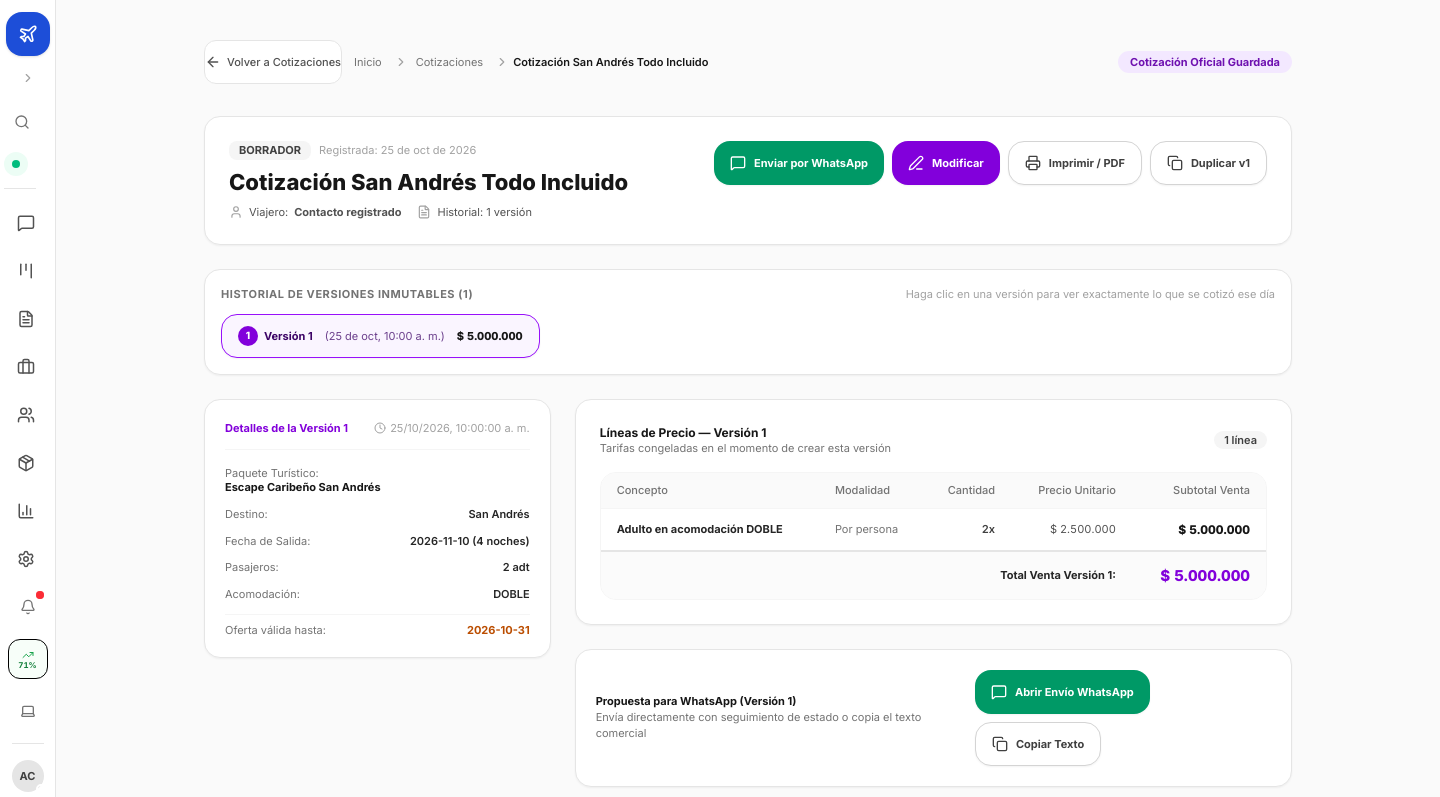
Test: PaginaCotizacionGuardada (Detalle T-107) › duplica la versión actual creando la versión 2 al hacer clic en Duplicar versión
Click the button with test id "btn-duplicar-version": [1208, 163] box [1150,141,1267,185]
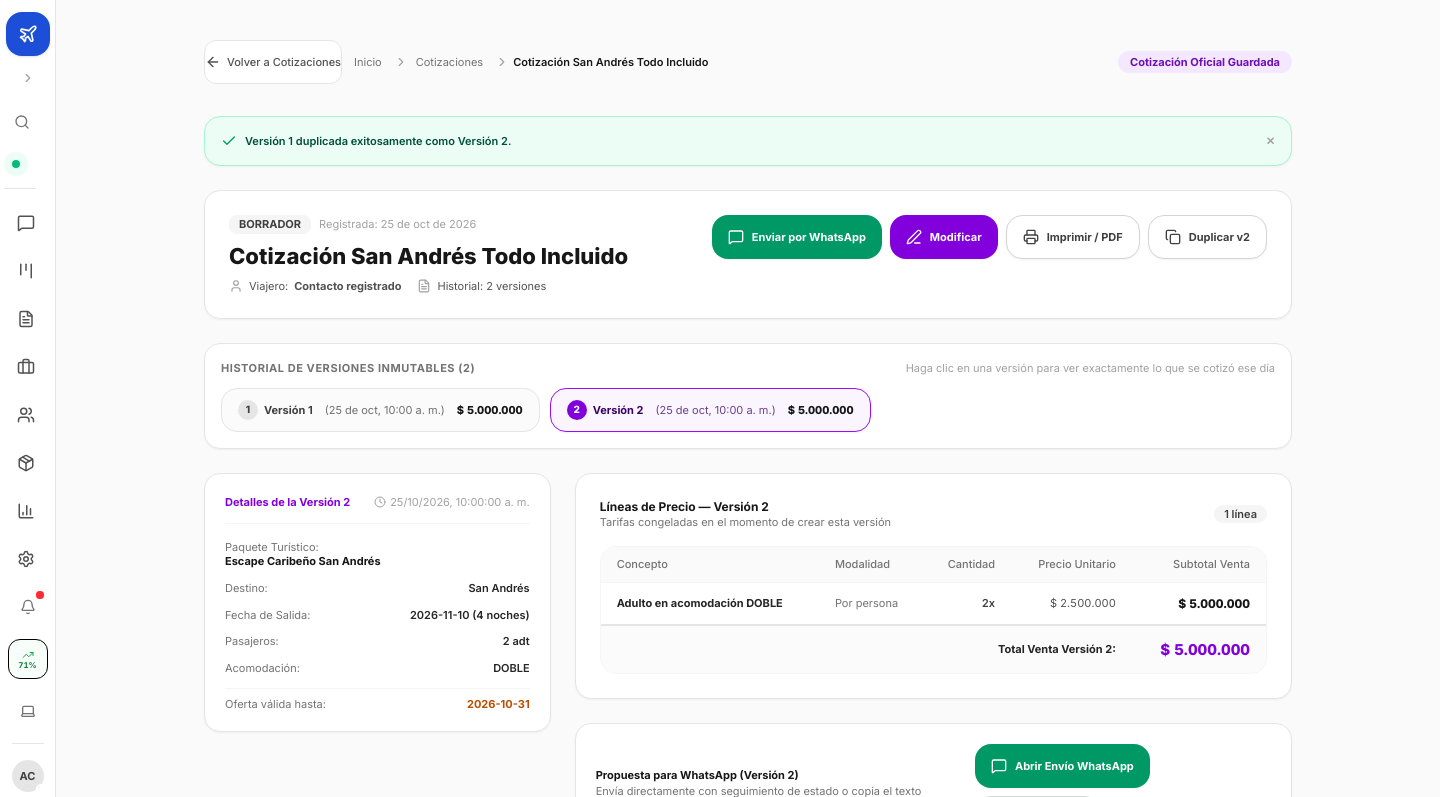
Result: the text "Versión 2" is shown at [593,403,644,418]
